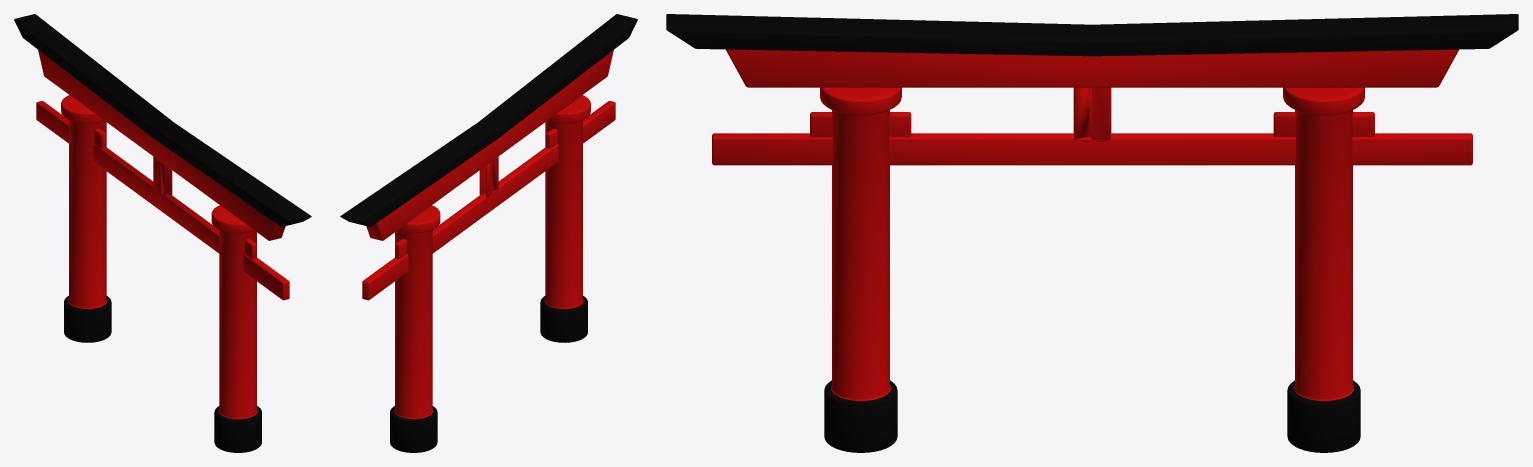
The model's file is Arch.fbx.
3 renders of one model, left to right at view 1: azimuth 30°, elevation 25°; view 2: azimuth 150°, elevation 25°; view 3: azimuth 270°, elevation 25°, orthographic. The views are drawn at different scales.
Visible parts, largest first — view 1: ArchWay (×2); view 2: ArchWay (×2); view 3: ArchWay (×2).
Boxes of the visible parts, x1=… form: ArchWay (×2): x1=14, y1=14, x2=311, y2=452; ArchWay (×2): x1=340, y1=14, x2=637, y2=452; ArchWay (×2): x1=666, y1=14, x2=1518, y2=452.
Size of the model in its own units: 284 by 1588 by 2944.
